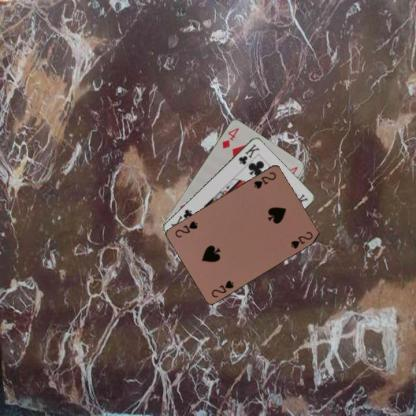2s: (209, 277, 235, 299), (252, 170, 278, 190)
4d: (219, 124, 240, 150)
Kc: (236, 141, 260, 166)
